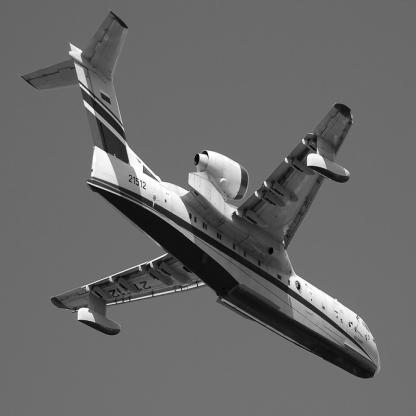Be200: (19, 9, 382, 380)
